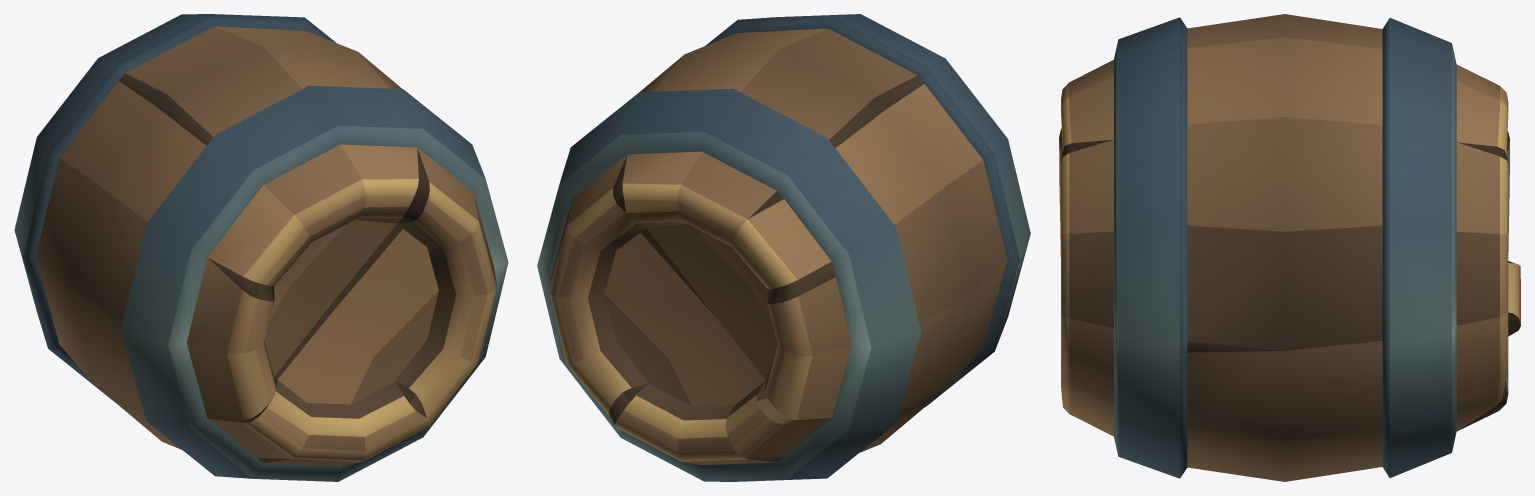
Rendered from tavern_large_barrel.fbx.
3 renders of one model, left to right at view 1: azimuth 30°, elevation 25°; view 2: azimuth 150°, elevation 25°; view 3: azimuth 270°, elevation 25°, orthographic. The views are drawn at different scales.
Visible parts, largest first — view 1: tavern_large_barrel_LOD0; view 2: tavern_large_barrel_LOD0; view 3: tavern_large_barrel_LOD0.
Part boxes in pixels (box(x1,y1,x2,y2)): tavern_large_barrel_LOD0: box(14, 14, 508, 481); tavern_large_barrel_LOD0: box(537, 14, 1030, 481); tavern_large_barrel_LOD0: box(1059, 14, 1520, 481).
Size of what is drawn, in the model's own units: 169 by 169 by 166.
